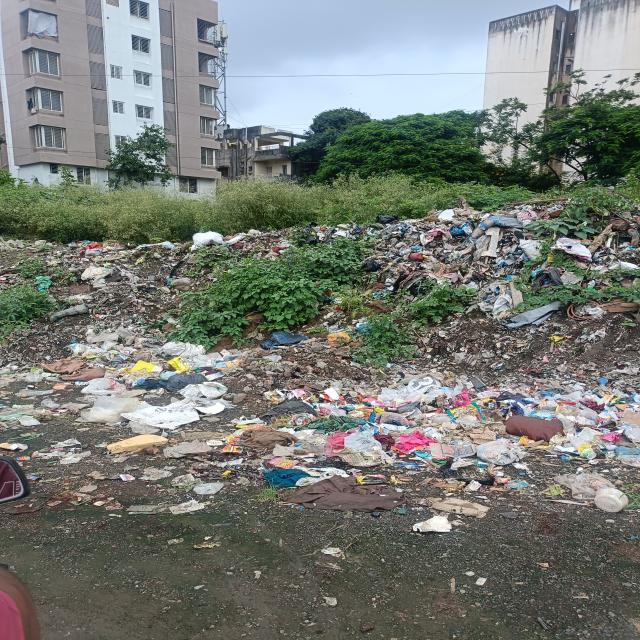garbage: (69, 217, 640, 483)
